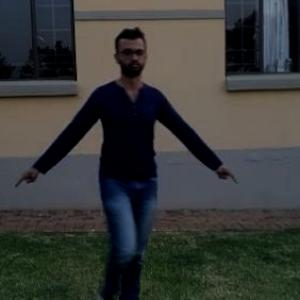land: (41, 42, 213, 296)
